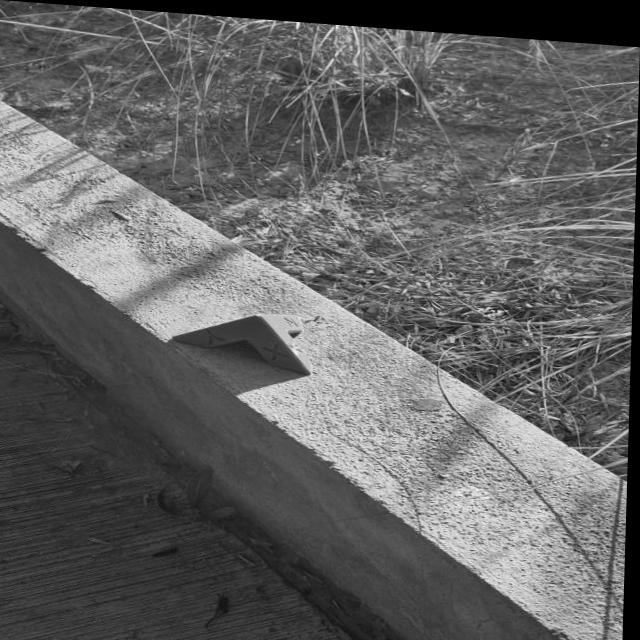eje: (169, 304, 317, 377)
